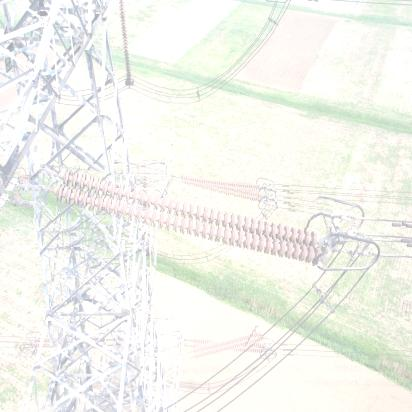insulator: (35, 174, 334, 260), (188, 332, 265, 360)
